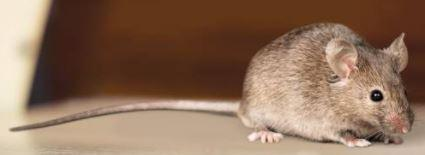rat: (9, 22, 416, 146)
